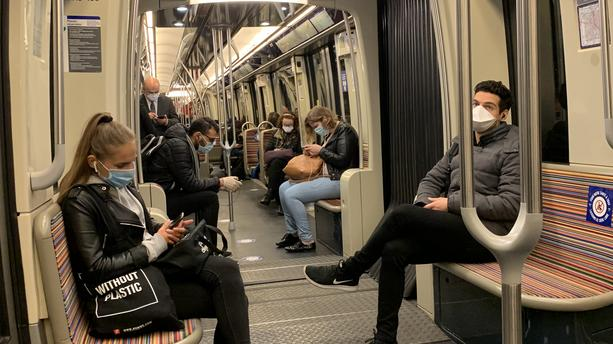with_mask: (86, 152, 141, 189), (471, 95, 508, 132), (197, 131, 216, 154), (142, 85, 162, 101), (312, 121, 331, 137), (283, 119, 295, 132)
